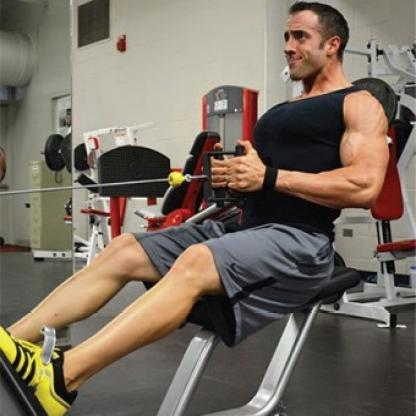Seated Cable Rows: (2, 1, 403, 416)
